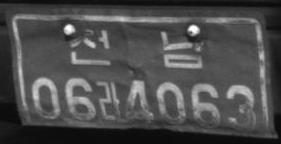0: (31, 75, 62, 121), (156, 80, 187, 125)
3: (225, 83, 257, 132)
4: (123, 78, 155, 125)
6: (190, 81, 222, 130), (63, 75, 96, 122)
라: (96, 79, 122, 122)
전남_D: (65, 24, 204, 69)
